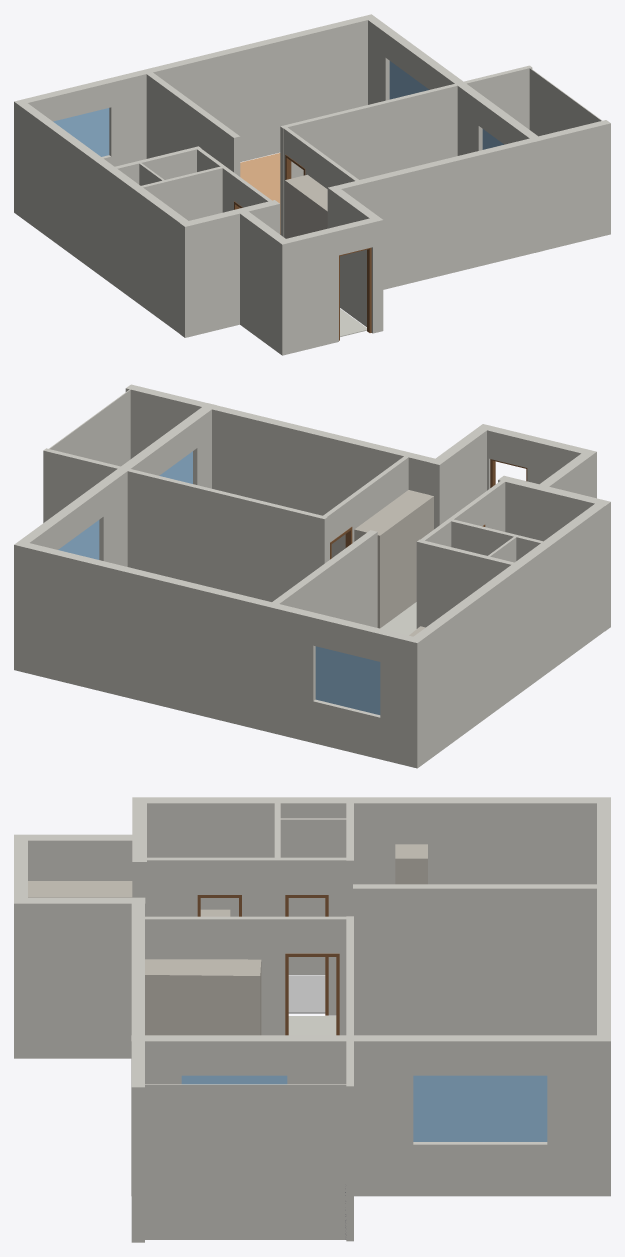
3 renders of one model, top to bottom at view 1: azimuth 30°, elevation 25°; view 2: azimuth 150°, elevation 25°; view 3: azimuth 270°, elevation 25°, orthographic. The views are drawn at different scales.
Parts seen in each view (by area): view 1: walls, furniture_2_closet, window_2, floor_1_Living_Room, window_3, door_4; view 2: walls, furniture_2_closet, window_2, window_3, floor_2_Undefined, window_0; view 3: walls, window_3, furniture_3_closet, furniture_4_closet, floor_4_Storage, furniture_0_closet, window_0, floor_2_Undefined, door_1.
Boxes of the visible parts, left/top/right/bottom form: walls: left=14, top=14, right=610, bottom=355; furniture_2_closet: left=285, top=174, right=327, bottom=238; window_2: left=53, top=108, right=109, bottom=156; floor_1_Living_Room: left=240, top=153, right=280, bottom=234; window_3: left=389, top=61, right=429, bottom=99; door_4: left=339, top=247, right=371, bottom=340; walls: left=14, top=384, right=610, bottom=768; furniture_2_closet: left=354, top=490, right=433, bottom=628; window_2: left=315, top=646, right=380, bottom=714; window_3: left=58, top=520, right=99, bottom=559; floor_2_Undefined: left=380, top=602, right=416, bottom=635; window_0: left=159, top=451, right=192, bottom=483; walls: left=14, top=797, right=610, bottom=1242; window_3: left=413, top=1075, right=547, bottom=1141; furniture_3_closet: left=145, top=959, right=261, bottom=1035; furniture_4_closet: left=28, top=881, right=132, bottom=897; floor_4_Storage: left=288, top=975, right=325, bottom=1013; furniture_0_closet: left=395, top=844, right=427, bottom=884; window_0: left=181, top=1075, right=287, bottom=1084; floor_2_Undefined: left=288, top=1016, right=336, bottom=1035; door_1: left=285, top=953, right=339, bottom=1035.
Bounding box in the file's own units: 10.83 × 2.72 × 9.41.
